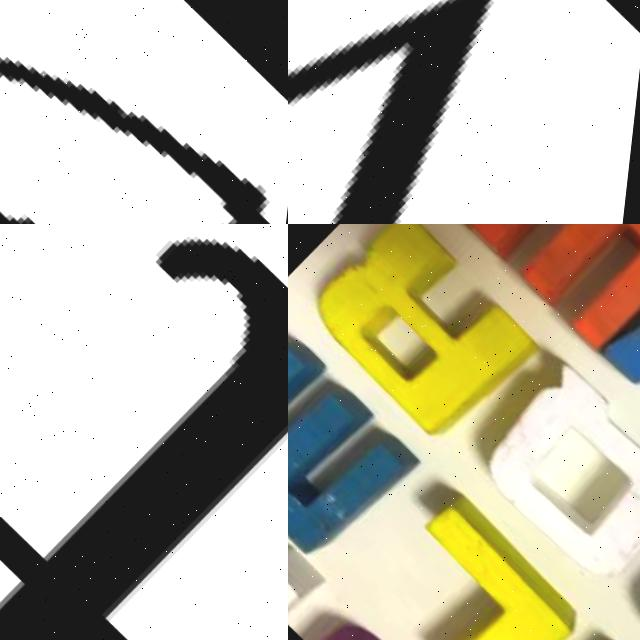6: (0, 0, 288, 224)
L: (343, 476, 601, 640)
M: (288, 327, 436, 569)
Q: (460, 344, 640, 590)
R: (288, 224, 563, 450)
T: (0, 224, 288, 640)
V: (288, 0, 640, 224)
W: (453, 224, 640, 352)
